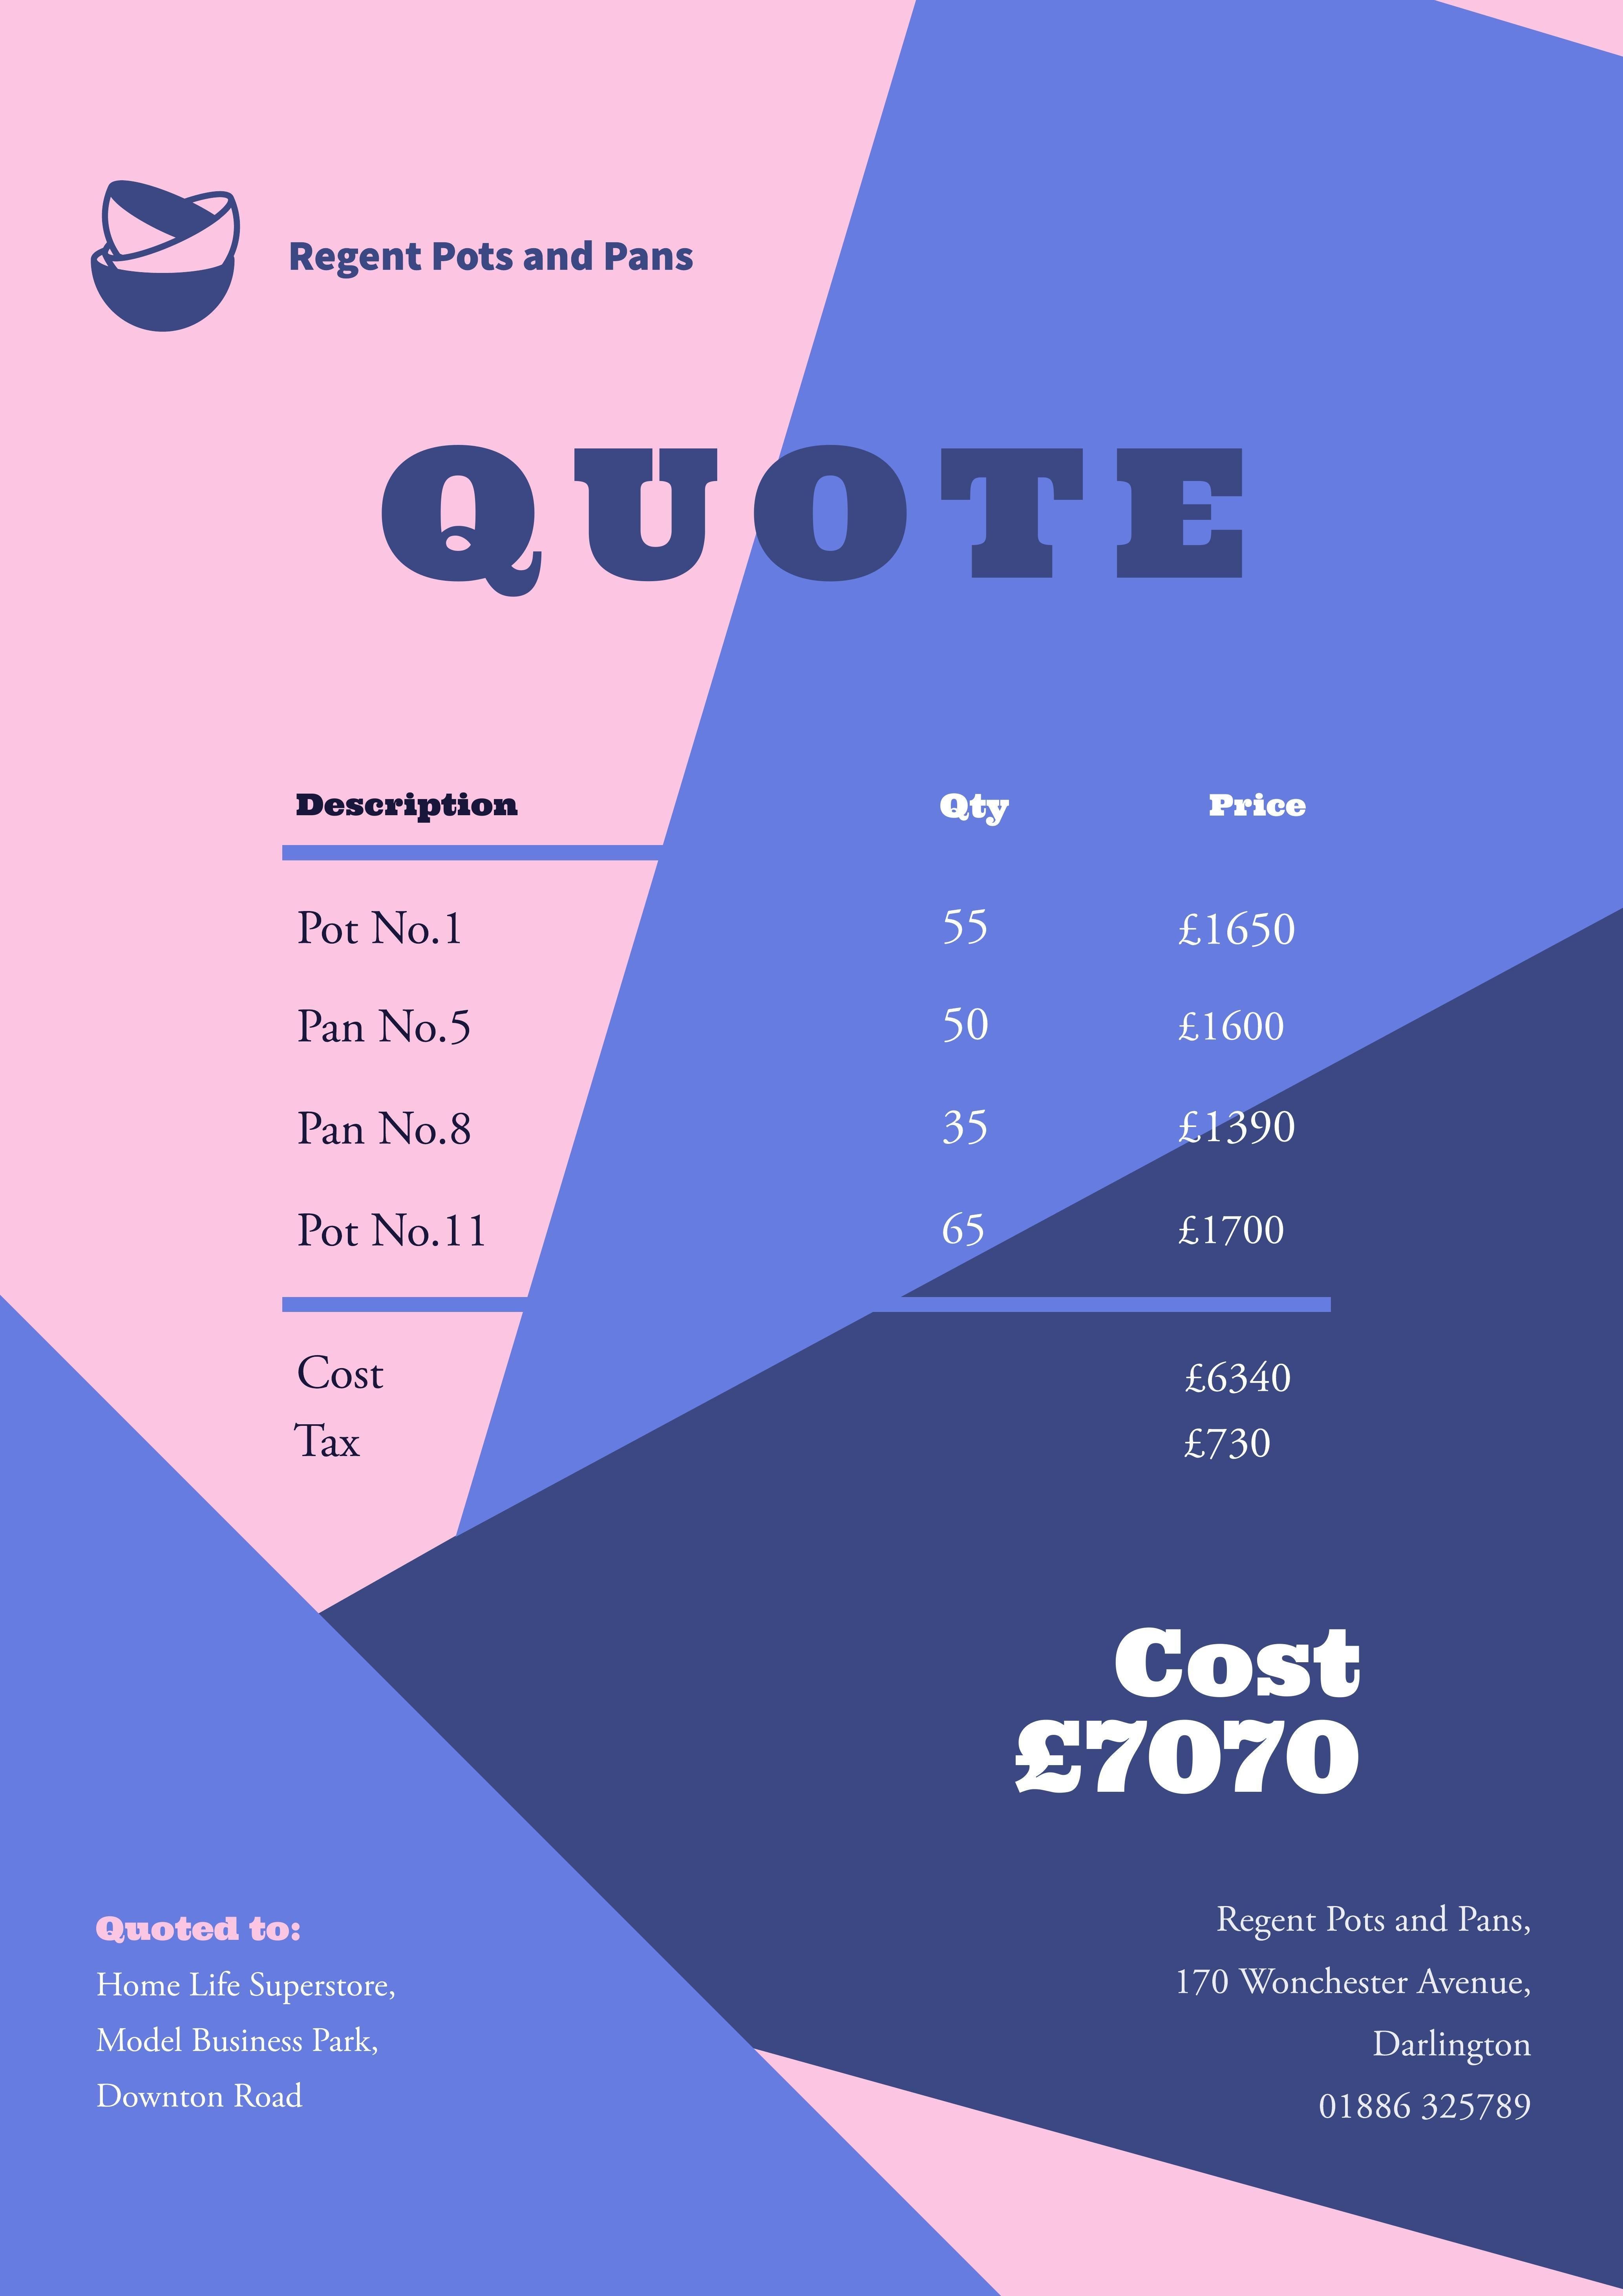ROI: (276, 1336, 1371, 1835), (276, 782, 1318, 1292), (68, 1875, 440, 2136), (280, 224, 704, 294)
